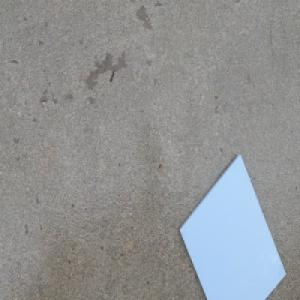PaintChip: (177, 152, 285, 300)
